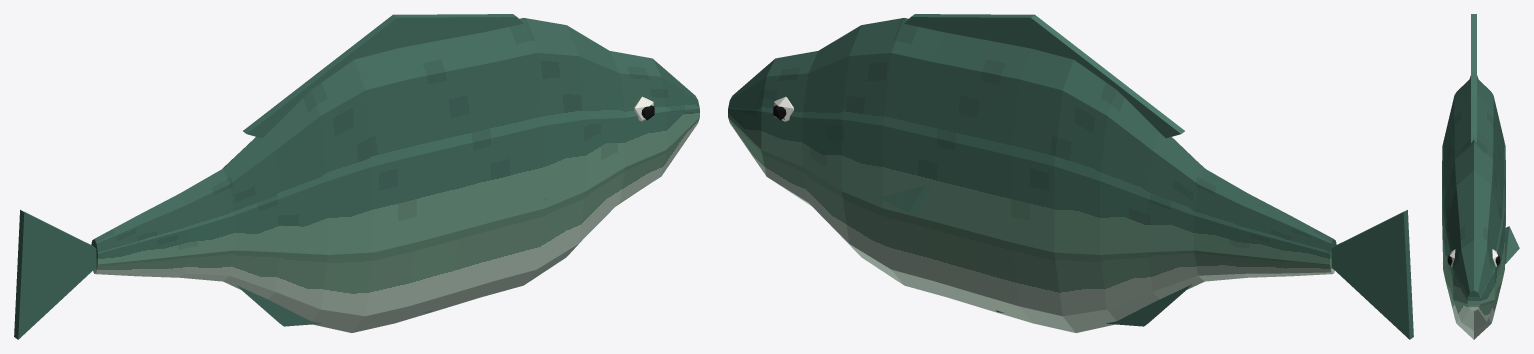
File: bumphead_parrotfish.glb
3 renders of one model, left to right at view 1: azimuth 30°, elevation 25°; view 2: azimuth 150°, elevation 25°; view 3: azimuth 270°, elevation 25°, orthographic. The views are drawn at different scales.
Visible parts, largest first — view 1: fish_bumphead_parrotfish; view 2: fish_bumphead_parrotfish; view 3: fish_bumphead_parrotfish.
Boxes of the visible parts, bbox=[...] form: fish_bumphead_parrotfish: bbox=[14, 14, 699, 339]; fish_bumphead_parrotfish: bbox=[728, 14, 1413, 339]; fish_bumphead_parrotfish: bbox=[1442, 14, 1519, 339].
Size of the model in its own units: 1.13 by 0.4881 by 0.1527.
4 materials, 1 textured.
